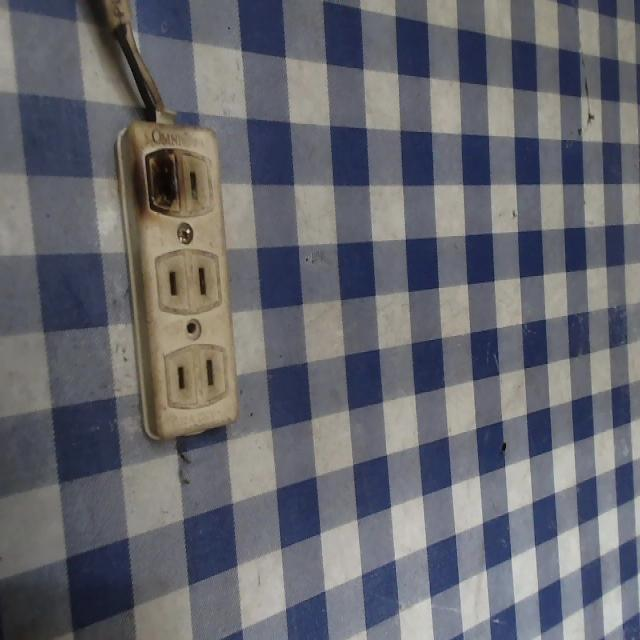-: (129, 139, 188, 224)
